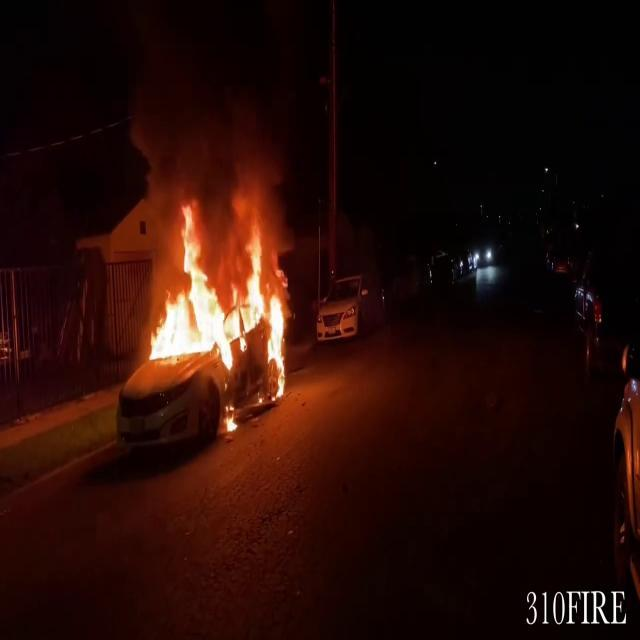Fire: (141, 179, 295, 418)
Smoke: (120, 2, 302, 216)
